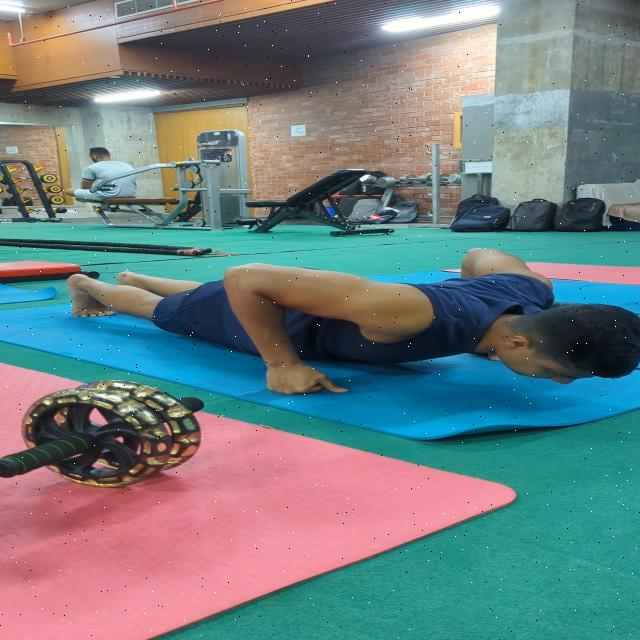Normal_PushUps: (23, 248, 640, 413)
